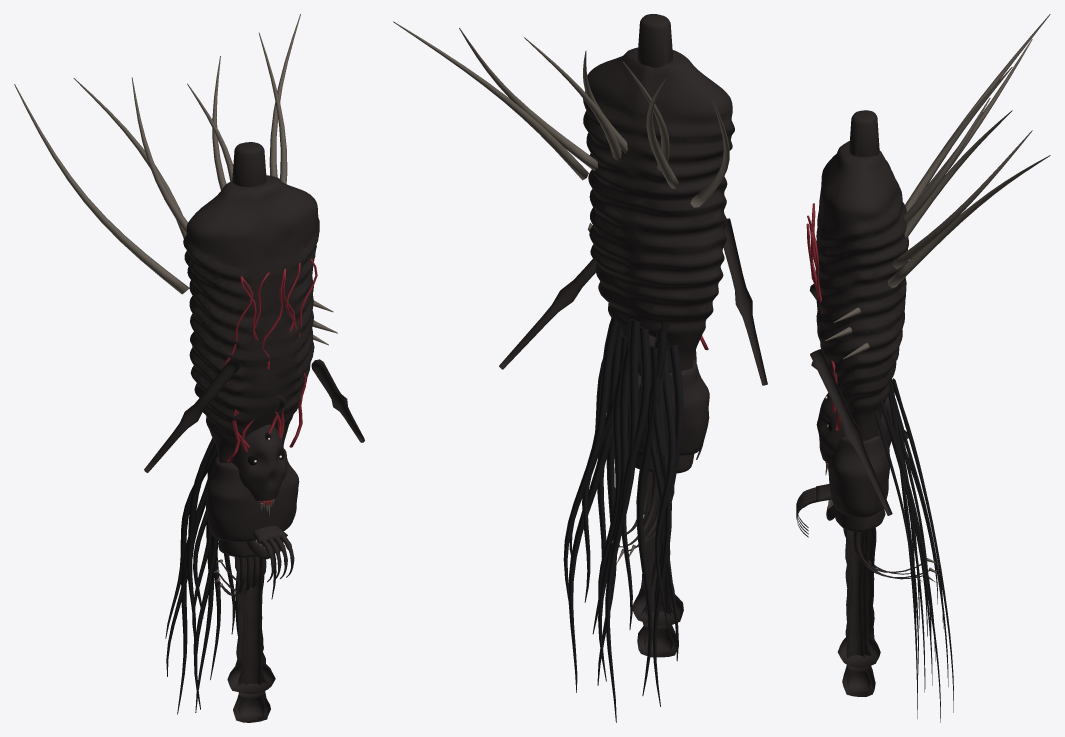
File: husk.glb
The picture shows the model from 3 angles, left to right: view 1: azimuth 30°, elevation 25°; view 2: azimuth 150°, elevation 25°; view 3: azimuth 270°, elevation 25°; orthographic projection. The views are drawn at different scales.
Parts seen in each view (by area): view 1: torso, head.hair, torso.bone, pelvis, head, torso.extra, torso.veins, forearm, thigh, foot, hand, upperarm (+1 smaller); view 2: torso, head.hair, torso.bone, torso.extra, pelvis, thigh, upperarm, forearm, hand, shin; view 3: torso, torso.bone, head.hair, pelvis, torso.extra, forearm, thigh, head, shin, torso.veins, upperarm, foot (+1 smaller).
Part boxes in pixels (x1,y1,x2,y2): torso: [183, 142, 319, 557]; head.hair: [165, 438, 276, 714]; torso.bone: [14, 14, 337, 345]; pelvis: [206, 448, 299, 541]; head: [232, 424, 286, 500]; torso.extra: [144, 357, 364, 472]; torso.veins: [222, 259, 317, 462]; forearm: [238, 557, 264, 721]; thigh: [227, 557, 275, 694]; foot: [252, 525, 294, 582]; hand: [217, 548, 280, 596]; upperarm: [233, 559, 270, 722]; torso: [583, 14, 734, 473]; head.hair: [563, 316, 683, 722]; torso.bone: [393, 21, 729, 231]; torso.extra: [499, 218, 767, 392]; pelvis: [628, 359, 709, 455]; thigh: [632, 494, 683, 625]; upperarm: [637, 482, 678, 657]; forearm: [644, 472, 673, 655]; hand: [619, 472, 674, 550]; shin: [641, 475, 673, 630]; torso: [815, 110, 908, 531]; torso.bone: [825, 14, 1050, 359]; head.hair: [875, 378, 953, 722]; pelvis: [828, 436, 889, 517]; torso.extra: [809, 283, 908, 515]; forearm: [845, 530, 870, 694]; thigh: [837, 527, 880, 668]; head: [816, 393, 892, 462]; shin: [845, 530, 871, 671]; torso.veins: [806, 203, 840, 430]; upperarm: [842, 530, 875, 696]; foot: [796, 484, 831, 537].
Size of the model in its own units: 0.7751 by 1.62 by 0.5884.
